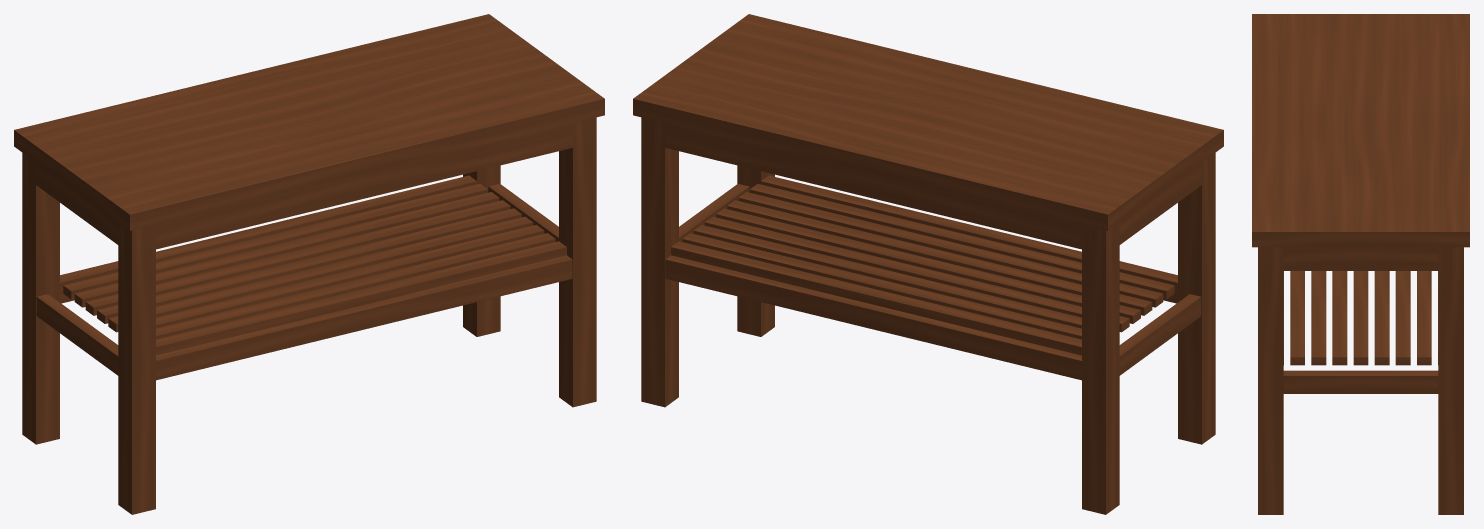
Rendered from mueble-tv.glb.
3 renders of one model, left to right at view 1: azimuth 30°, elevation 25°; view 2: azimuth 150°, elevation 25°; view 3: azimuth 270°, elevation 25°, orthographic. The views are drawn at different scales.
Parts seen in each view (by area): view 1: mueble-tv; view 2: mueble-tv; view 3: mueble-tv.
Part boxes in pixels (x1,y1,x2,y2): mueble-tv: (14,14,604,514); mueble-tv: (633,14,1223,514); mueble-tv: (1252,14,1469,514).
Bounding box in the file's own units: 0.9 × 0.55 × 0.38.
Materials: 1 (1 with a texture image).
